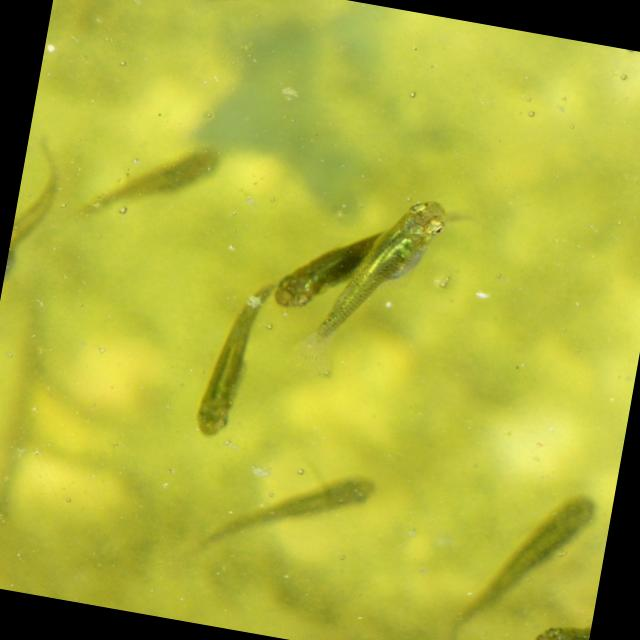Sivrisinek Baligi: (264, 174, 450, 360), (442, 471, 594, 640), (187, 448, 373, 582), (186, 271, 270, 446), (522, 585, 595, 640)
